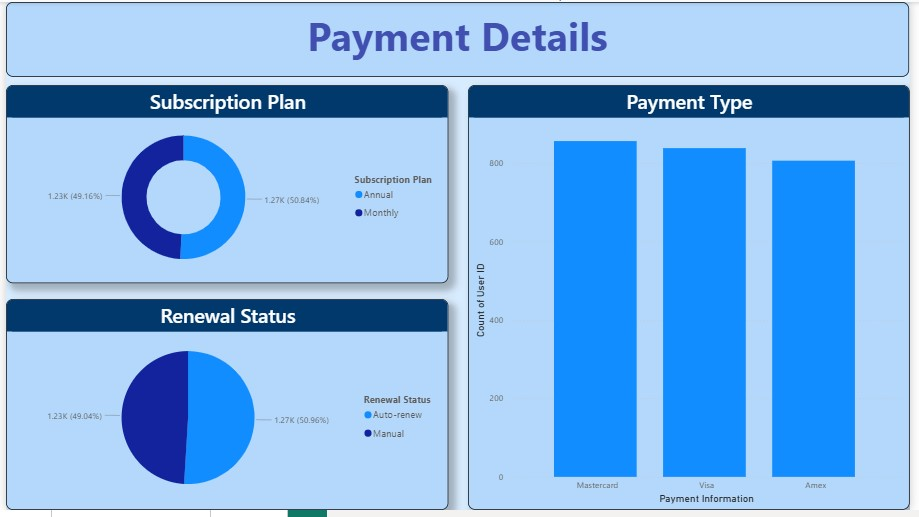

The dashboard page shown, as its layout file describes it:
{"tool":"powerbi","page":{"name":"Page 2","canvas":[1280,720],"ordinal":2},"visuals":[{"type":"donutChart","title":"Subscription Plan","fields":{"Category":["amazon_prime_users.Subscription Plan"],"Y":["CountNonNull(amazon_prime_users.User ID)"]},"box":[0,118,627.1,281.3],"z":0},{"type":"pieChart","title":"Renewal Status","fields":{"Category":["amazon_prime_users.Renewal Status"],"Y":["CountNonNull(amazon_prime_users.User ID)"]},"box":[0,421.3,627.1,299.1],"z":1},{"type":"textbox","box":[0,0,1280.3,105.7],"z":2},{"type":"columnChart","title":"Payment Type","fields":{"Category":["amazon_prime_users.Payment Information"],"Y":["CountNonNull(amazon_prime_users.User ID)"]},"box":[654.5,118,625.7,602.4],"z":3}]}

Visuals, with their boxes in screenshot pixels (x1, y1, x2, y2), scaled from the page's 1280x720 canvas onto the 919x517 screenshot:
"Subscription Plan" donutChart: pyautogui.locateOnScreen(0, 85, 450, 287)
"Renewal Status" pieChart: pyautogui.locateOnScreen(0, 303, 450, 516)
textbox: pyautogui.locateOnScreen(0, 0, 918, 76)
"Payment Type" columnChart: pyautogui.locateOnScreen(470, 85, 918, 516)
